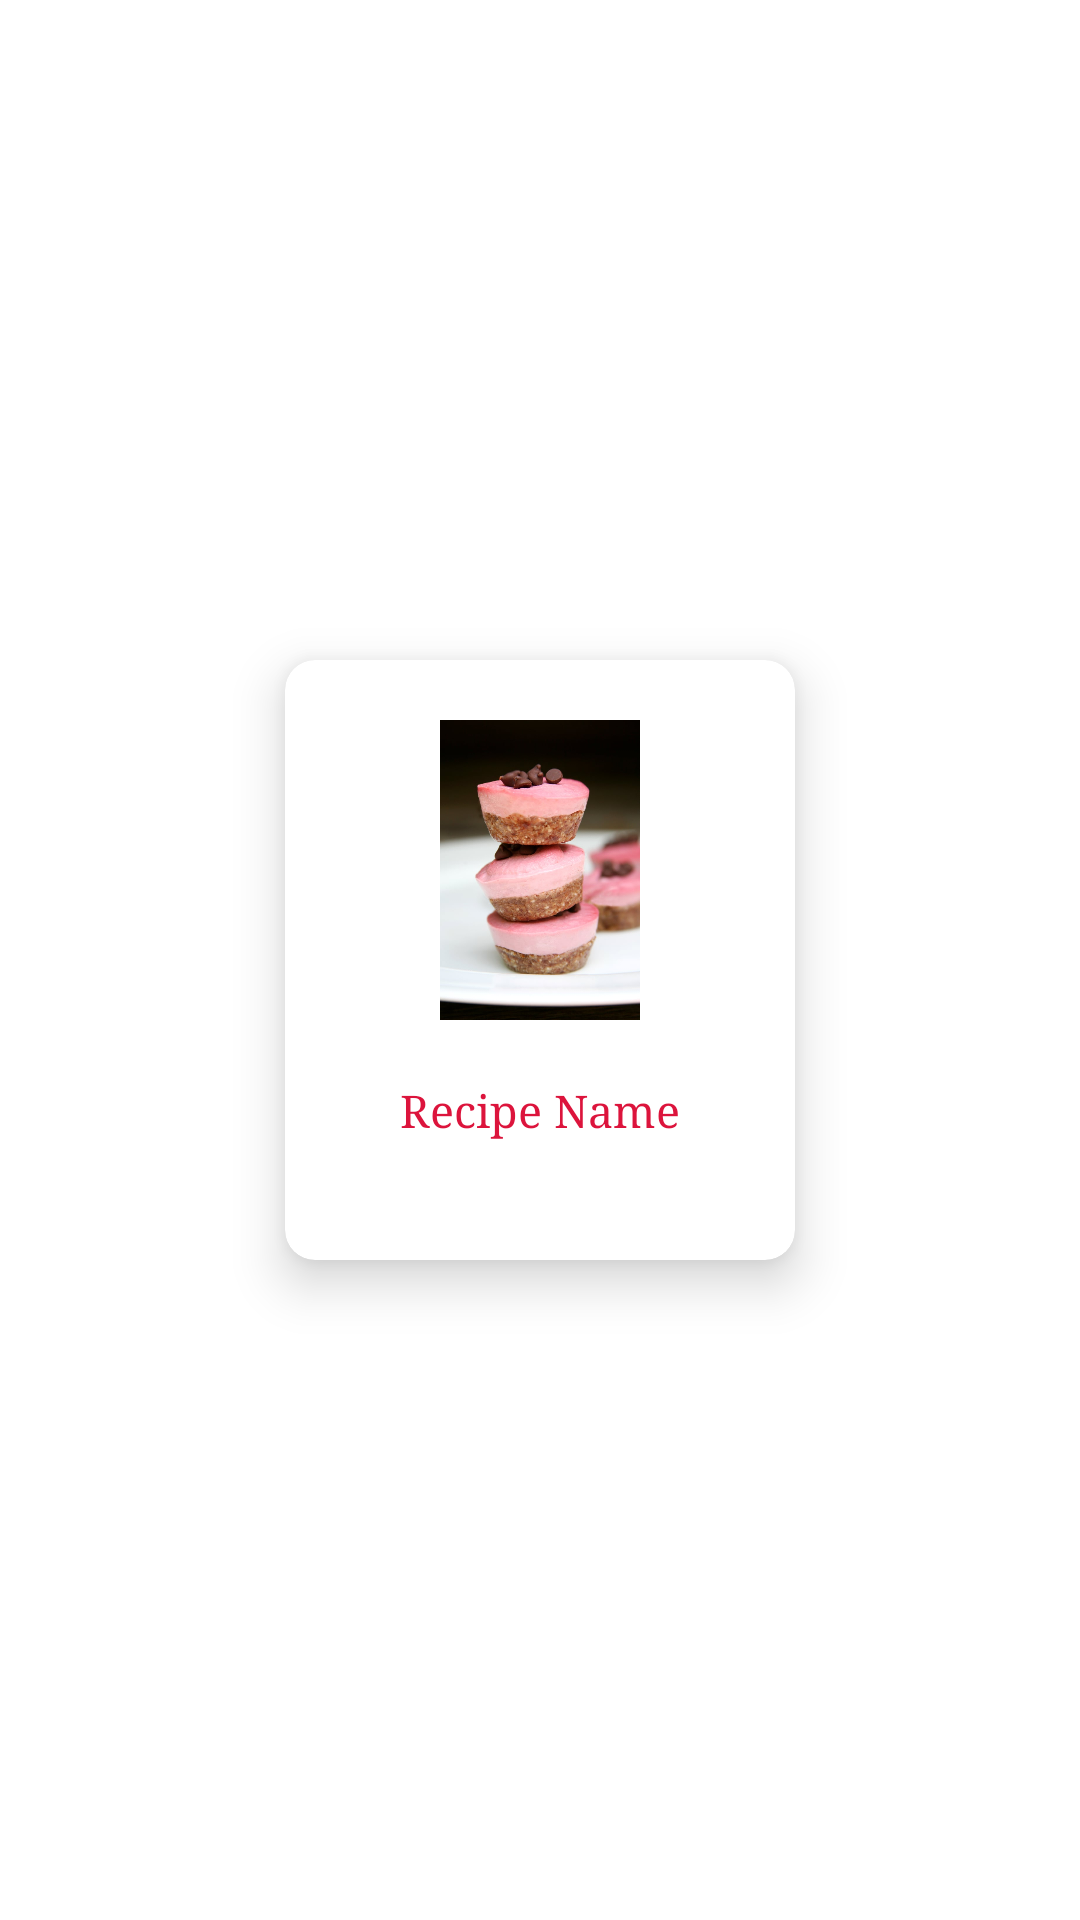

Screen size 1080×1920. Icon name, then its box in pixels as (x1, y1, x2, y2):
recipes item: (440, 720, 640, 1020)
